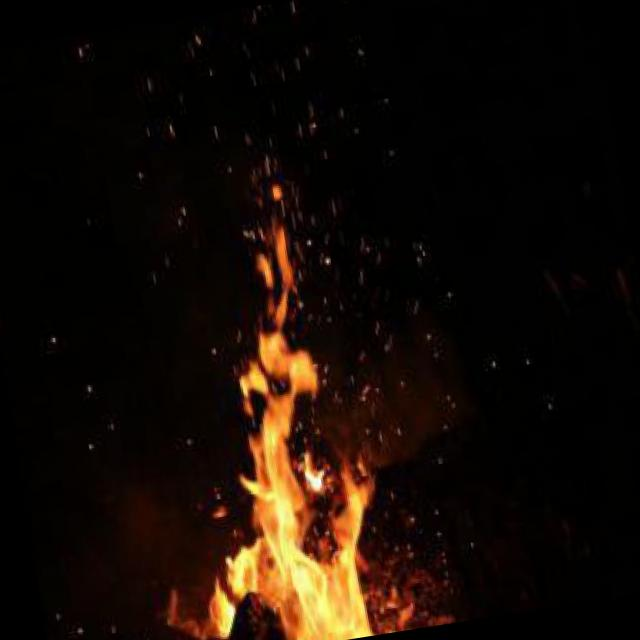fire: (109, 142, 426, 640)
